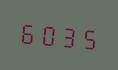five: (78, 21, 97, 53)
six: (18, 16, 37, 48)
three: (58, 20, 77, 51)
zero: (38, 18, 57, 49)
